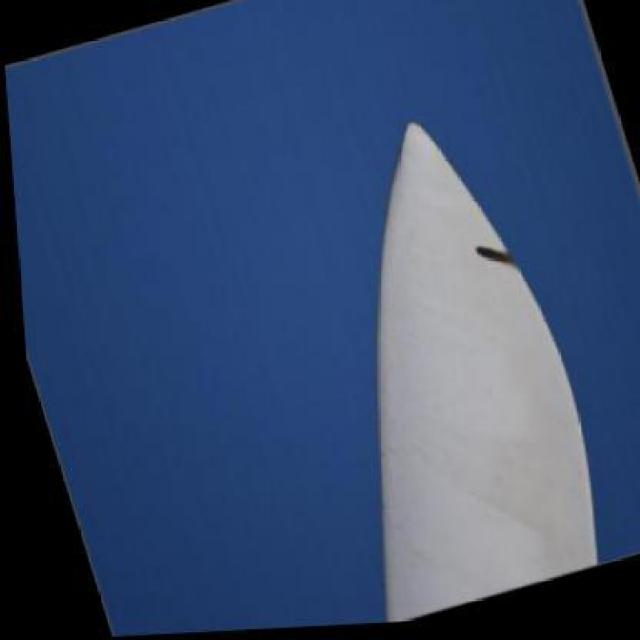Burn Mark: (473, 238, 524, 284)
